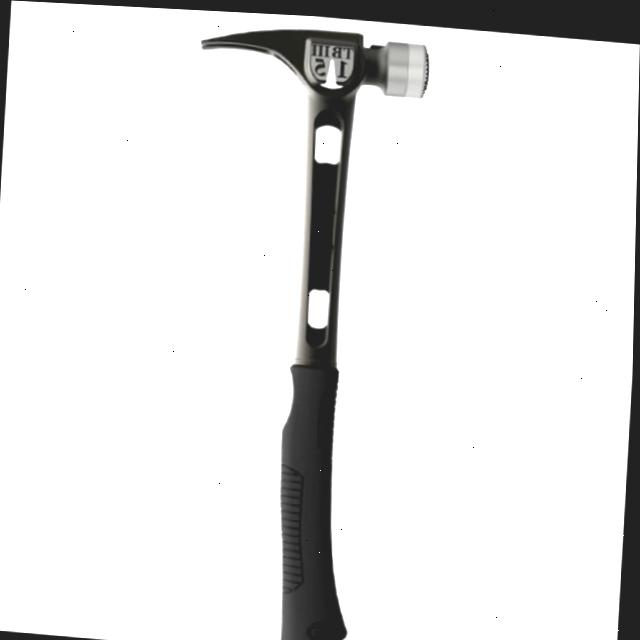hammer: (162, 7, 442, 640)
